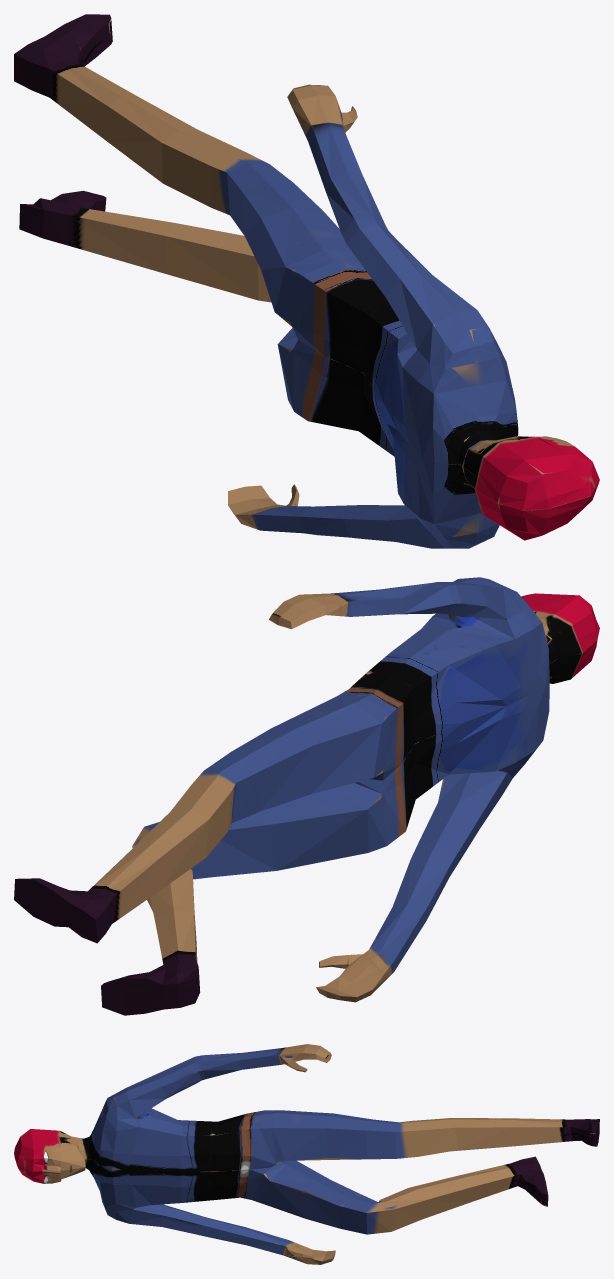
The model's file is mirrorman_000018.obj.
The picture shows the model from 3 angles, top to bottom: view 1: azimuth 30°, elevation 25°; view 2: azimuth 150°, elevation 25°; view 3: azimuth 270°, elevation 25°; orthographic projection. The views are drawn at different scales.
Visible parts, largest first — view 1: mirrorman_Cube.001_Material.001; view 2: mirrorman_Cube.001_Material.001; view 3: mirrorman_Cube.001_Material.001.
Boxes of the visible parts, x1,y1,x2,y2 form: mirrorman_Cube.001_Material.001: (14,14,599,548); mirrorman_Cube.001_Material.001: (14,577,599,1015); mirrorman_Cube.001_Material.001: (14,1044,599,1264).
Bounding box in the file's own units: 0.4345 × 0.8097 × 1.89.
